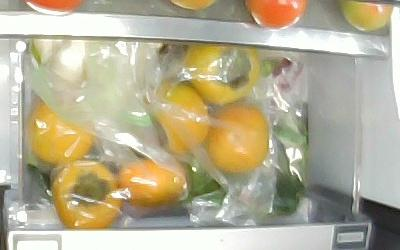persimmon_vinyl: (144, 81, 211, 156), (51, 160, 123, 228), (184, 47, 261, 105), (207, 106, 270, 172), (117, 157, 192, 212), (30, 101, 96, 163)
